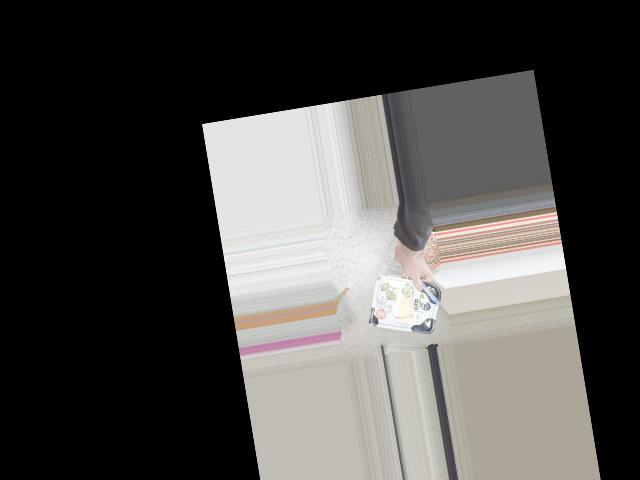cheese: (371, 276, 439, 332)
